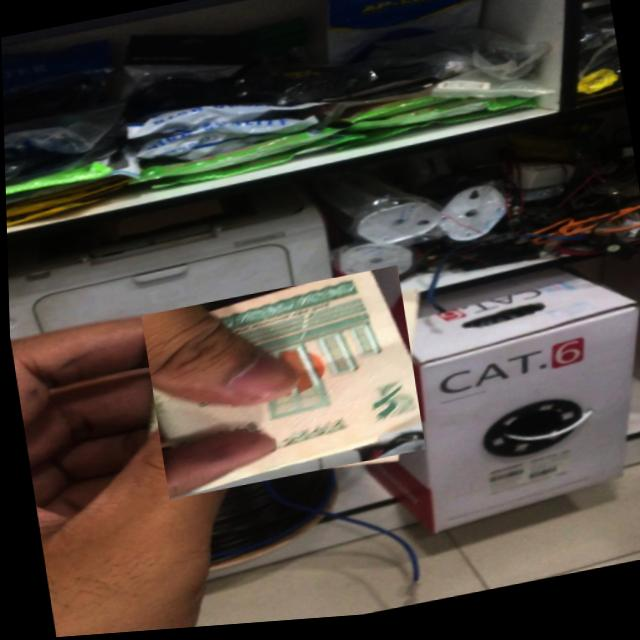Taka: (138, 270, 423, 503)
